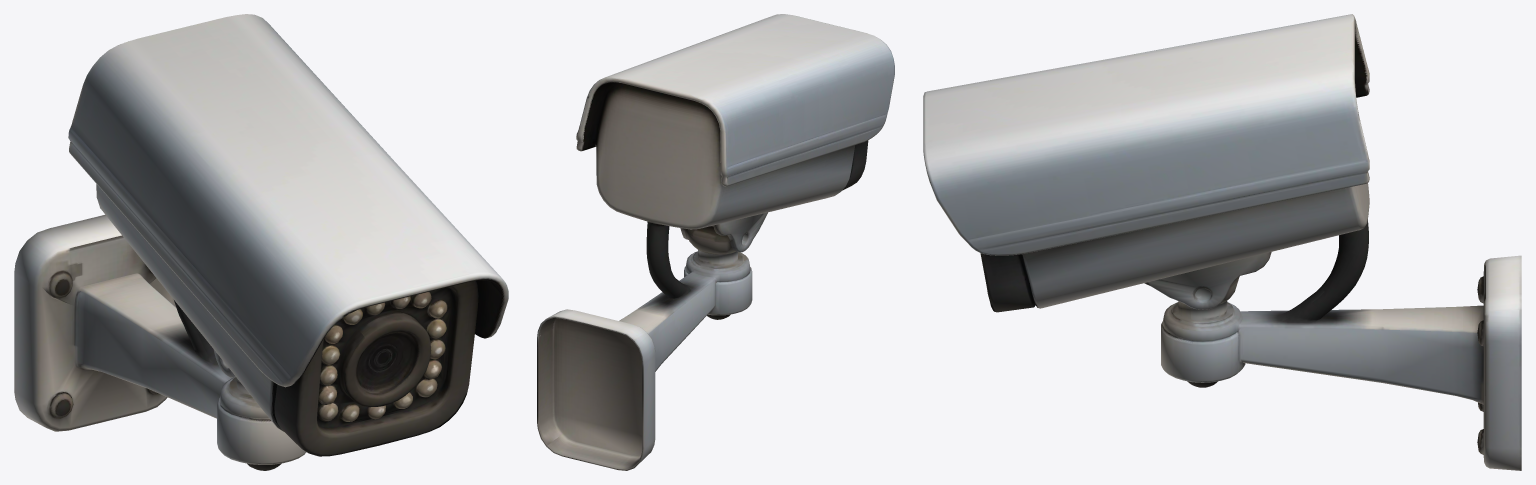
File: Urban__security_camera_realistic_style_44d0741b_v1.cluster.glb
3 renders of one model, left to right at view 1: azimuth 30°, elevation 25°; view 2: azimuth 150°, elevation 25°; view 3: azimuth 270°, elevation 25°, orthographic. The views are drawn at different scales.
Visible parts, largest first — view 1: mesh_input; view 2: mesh_input; view 3: mesh_input.
Part boxes in pixels (bbox=[...]): mesh_input: bbox=[14, 14, 508, 470]; mesh_input: bbox=[537, 14, 894, 470]; mesh_input: bbox=[923, 14, 1521, 470].
Size of the model in its own units: 0.6914 by 1.43 by 1.9.
1 material, 1 textured.
